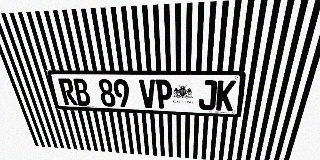8: (97, 79, 116, 107)
9: (112, 79, 131, 107)
B: (72, 78, 91, 106)
J: (198, 80, 217, 110)
K: (215, 80, 236, 111)
P: (155, 79, 172, 109)
R: (58, 78, 78, 105)
V: (139, 79, 156, 108)
